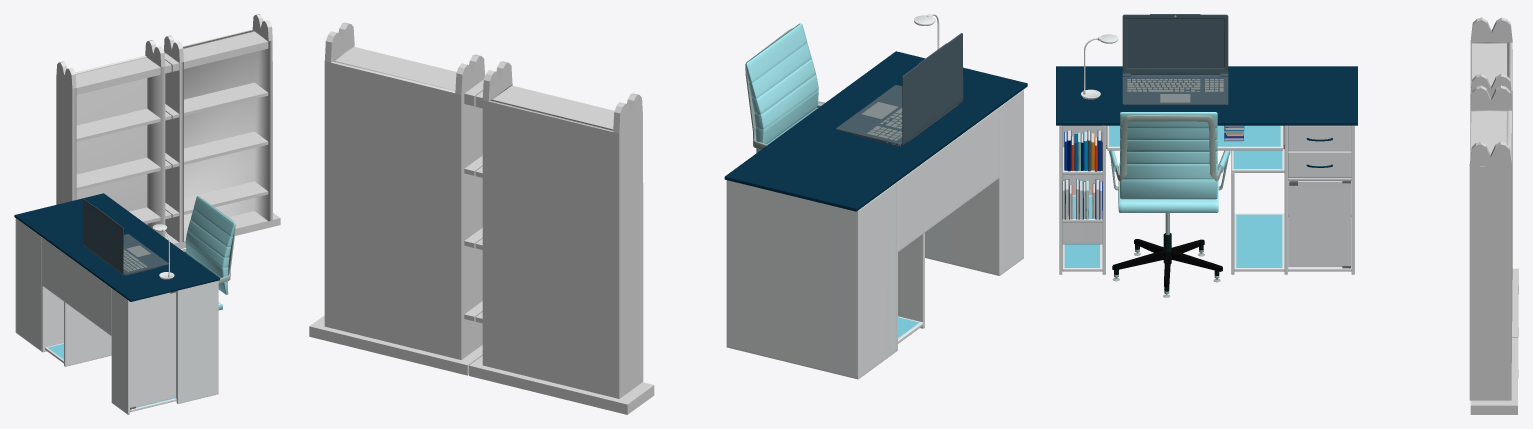
The model's file is RECEPCION DE MEDICAMENTOS .fbx.
3 renders of one model, left to right at view 1: azimuth 30°, elevation 25°; view 2: azimuth 150°, elevation 25°; view 3: azimuth 270°, elevation 25°, orthographic. The views are drawn at different scales.
Parts seen in each view (by area): view 1: gondola.003, table_020_mesh, MDL_SillaOficina.001, classic_laptop_computer_screen_mesh, classic_laptop_computer_base_mesh, office_lamp_01_head_mesh; view 2: gondola.003, table_020_mesh, MDL_SillaOficina.001, classic_laptop_computer_screen_mesh, classic_laptop_computer_base_mesh; view 3: table_020_mesh, gondola.003, MDL_SillaOficina.001, classic_laptop_computer_screen_mesh, classic_laptop_computer_base_mesh, book_037_mesh, book_027_mesh.002, office_lamp_01_head_mesh.
Boxes of the visible parts, <box> form: gondola.003: <box>56,14,280,249</box>; table_020_mesh: <box>14,193,219,414</box>; MDL_SillaOficina.001: <box>181,196,235,310</box>; classic_laptop_computer_screen_mesh: <box>82,198,124,275</box>; classic_laptop_computer_base_mesh: <box>86,234,168,275</box>; office_lamp_01_head_mesh: <box>152,224,174,279</box>; gondola.003: <box>309,22,654,414</box>; table_020_mesh: <box>724,51,1027,379</box>; MDL_SillaOficina.001: <box>745,23,825,152</box>; classic_laptop_computer_screen_mesh: <box>900,33,963,146</box>; classic_laptop_computer_base_mesh: <box>836,85,957,146</box>; table_020_mesh: <box>1056,66,1357,274</box>; gondola.003: <box>1469,17,1518,414</box>; MDL_SillaOficina.001: <box>1109,112,1230,297</box>; classic_laptop_computer_screen_mesh: <box>1122,14,1228,76</box>; classic_laptop_computer_base_mesh: <box>1122,74,1228,105</box>; book_037_mesh: <box>1064,130,1102,171</box>; book_027_mesh.002: <box>1062,179,1102,219</box>; office_lamp_01_head_mesh: <box>1081,34,1118,99</box>.
Size of the model in its own units: 343 by 216 by 342.
Materials: 12 (8 with a texture image).
